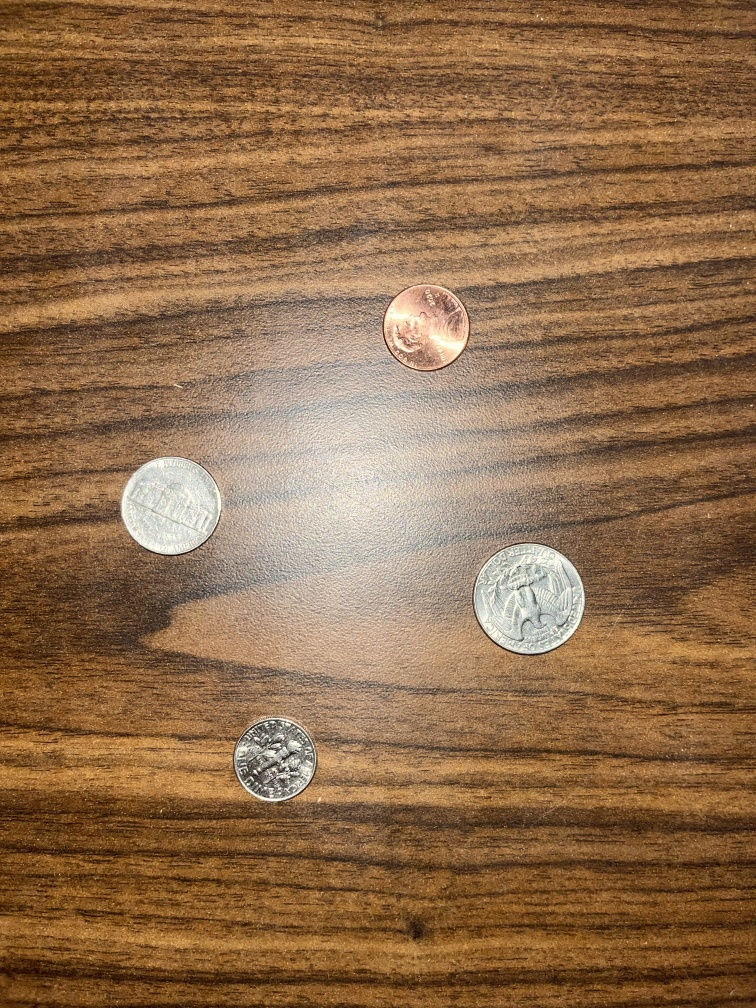dime: (227, 713, 322, 810)
nickel: (112, 451, 230, 558)
penny: (374, 278, 477, 384)
quarter: (467, 537, 591, 661)
